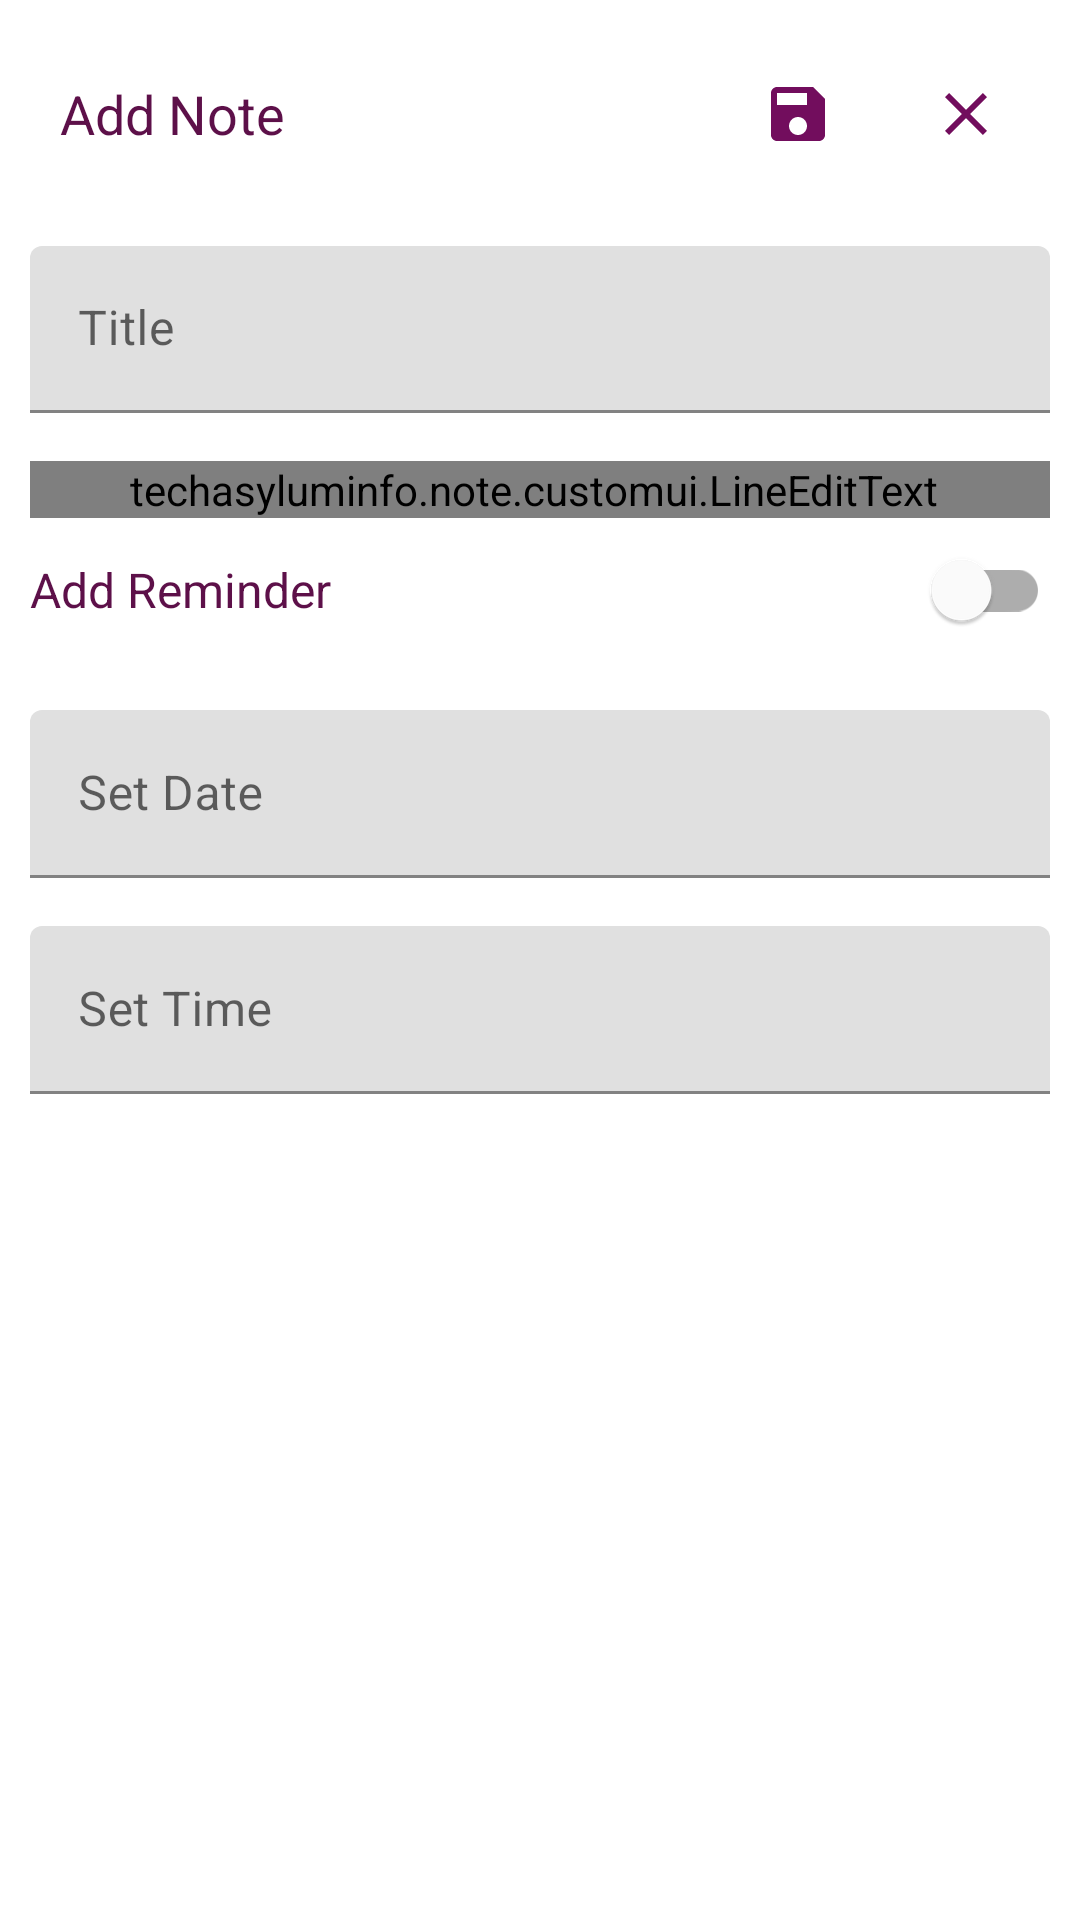

Locate icon controls on the screen. Image size 1080 x 1920, boxes as (x1, y1, x2, y2).
close: (945, 93, 987, 135)
save: (771, 87, 825, 141)
